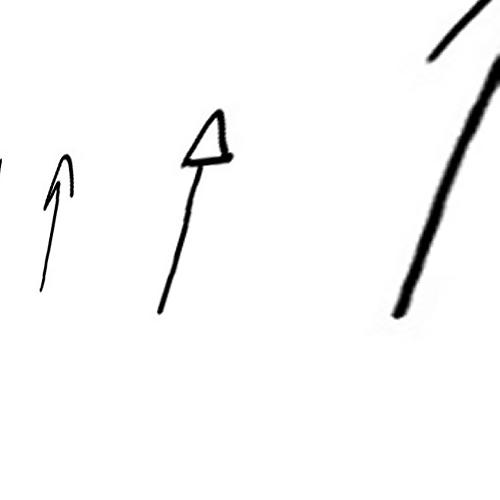arrow: (380, 4, 496, 317), (155, 107, 232, 318), (40, 152, 76, 293)
